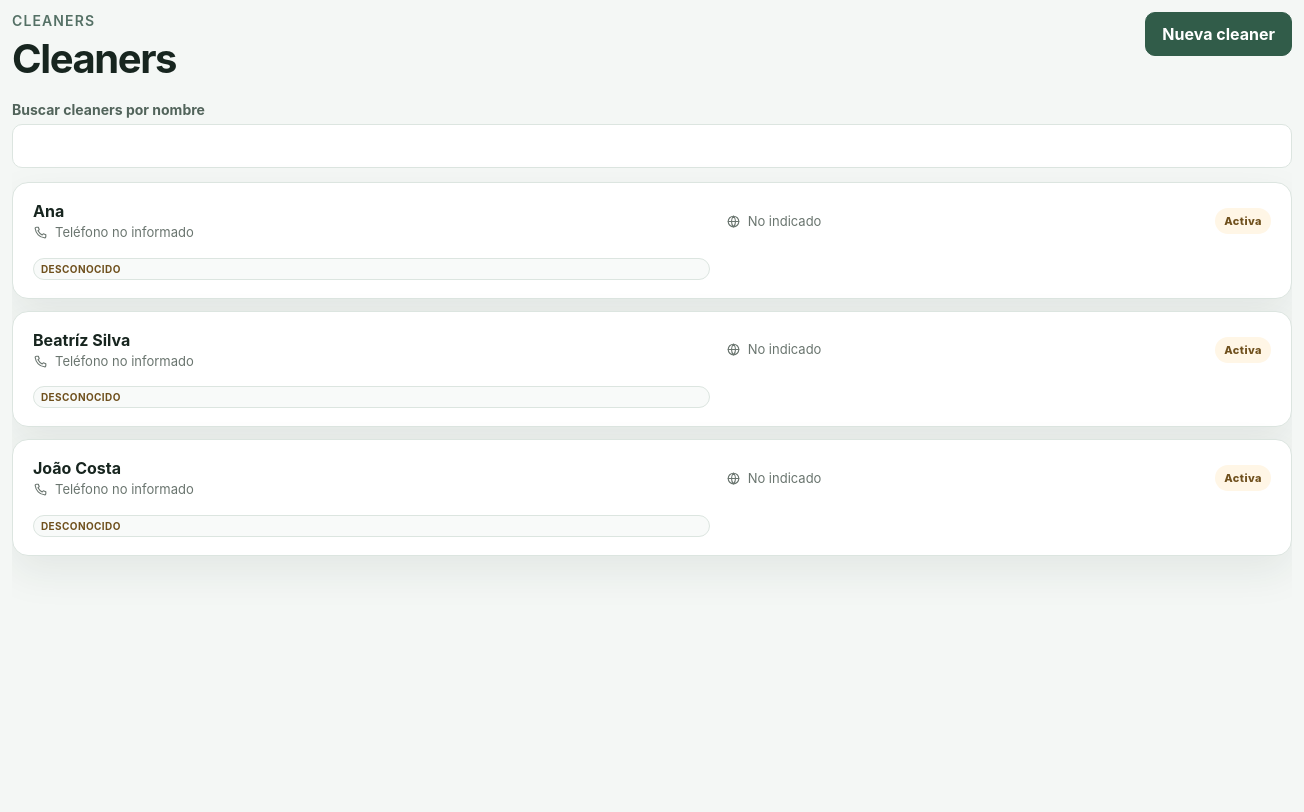
it: CleanerDirectory name search › localizes search and no-match copy in es
The width and height of the screenshot is (1304, 812).
In the search field labelled "Buscar cleaners por nombre": [652, 146] box x1=12 y1=124 x2=1292 y2=168, type "missing"
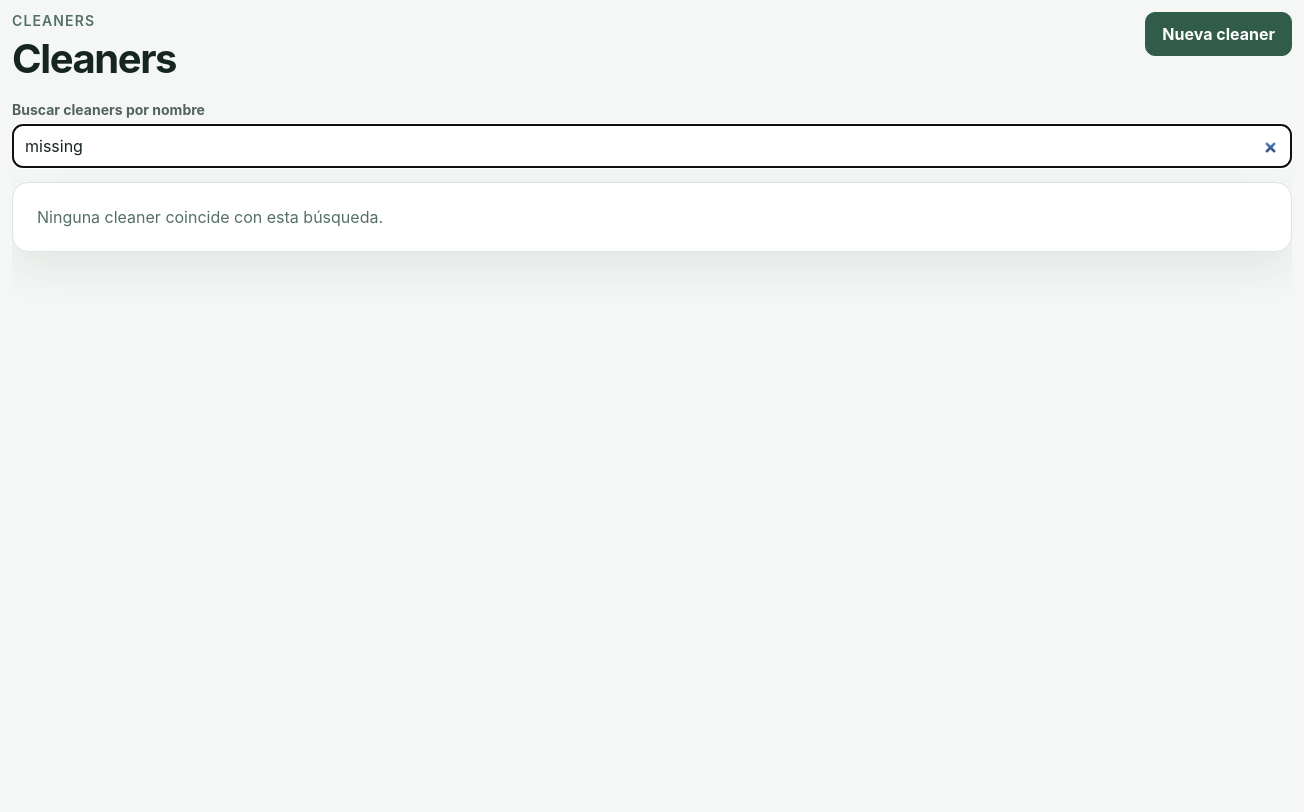
Result: the text "Ninguna cleaner coincide con esta búsqueda." is shown at x1=12 y1=182 x2=1292 y2=252
